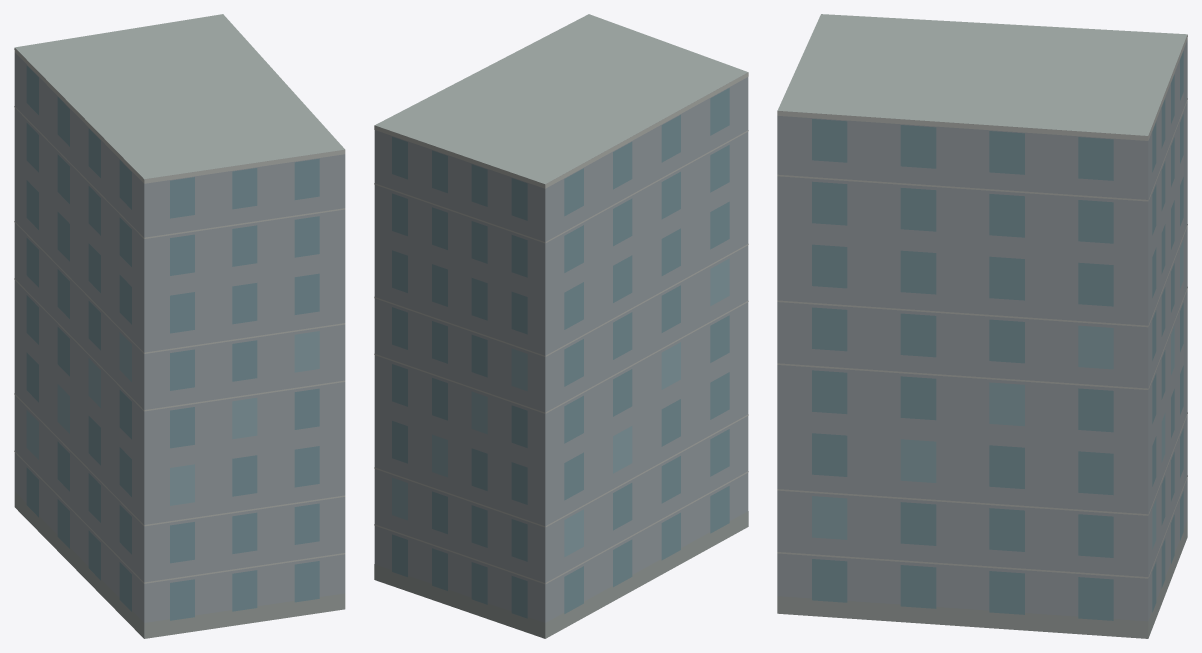
Rendered from survey-upis-32571847.glb.
3 renders of one model, left to right at view 1: azimuth 30°, elevation 25°; view 2: azimuth 150°, elevation 25°; view 3: azimuth 270°, elevation 25°, orthographic. The views are drawn at different scales.
Parts seen in each view (by area): view 1: survey-upis-32571847.tmp; view 2: survey-upis-32571847.tmp; view 3: survey-upis-32571847.tmp.
Boxes of the visible parts, <box> form: survey-upis-32571847.tmp: <box>14,14,345,638</box>; survey-upis-32571847.tmp: <box>374,14,748,638</box>; survey-upis-32571847.tmp: <box>777,14,1187,638</box>.
Bounding box in the file's own units: 12.72 × 24.4 × 18.06.
